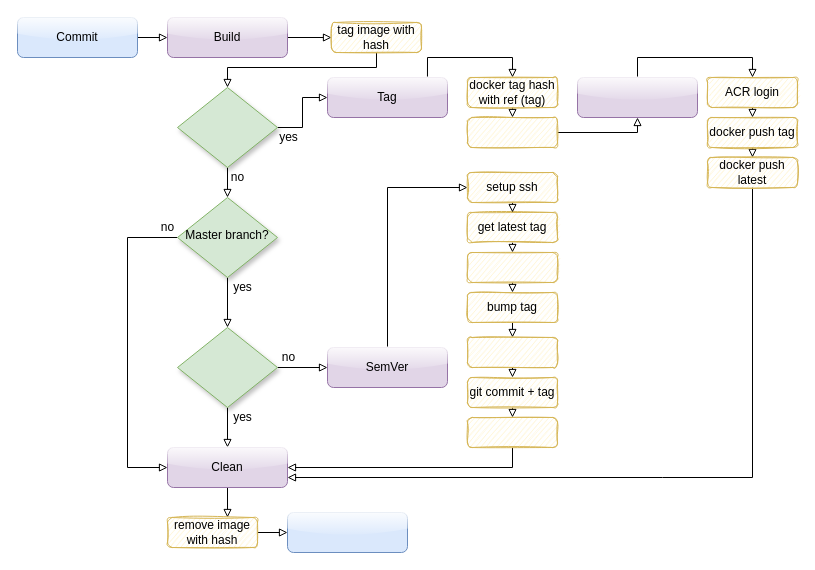
Image size: 815x570. Some labels were removed from this diagram. The shapes that lost their labels are listed below. From the top down, each one's centre as x and y in pixels, then its label:
At pixel 637 97: "Push".
At pixel 228 128: "Ref is a tag?".
At pixel 512 132: "docker tag hash with latest".
At pixel 512 267: "inspect merge label".
At pixel 228 368: "[version] message?".
At pixel 512 352: "update manifest".
At pixel 512 432: "git push".
At pixel 347 532: "Finished".
